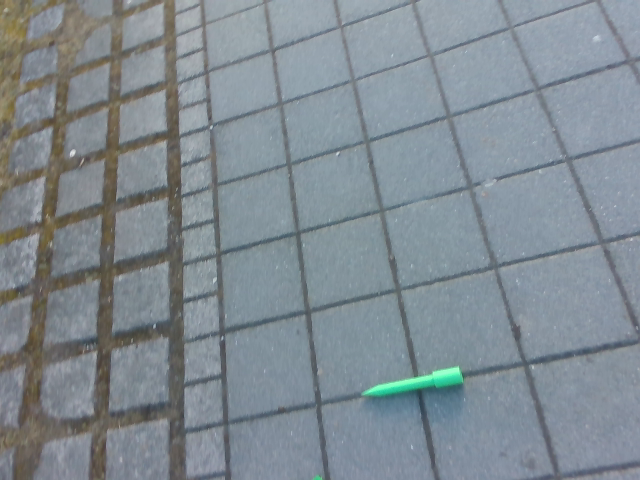Probe: (356, 358, 468, 407)
